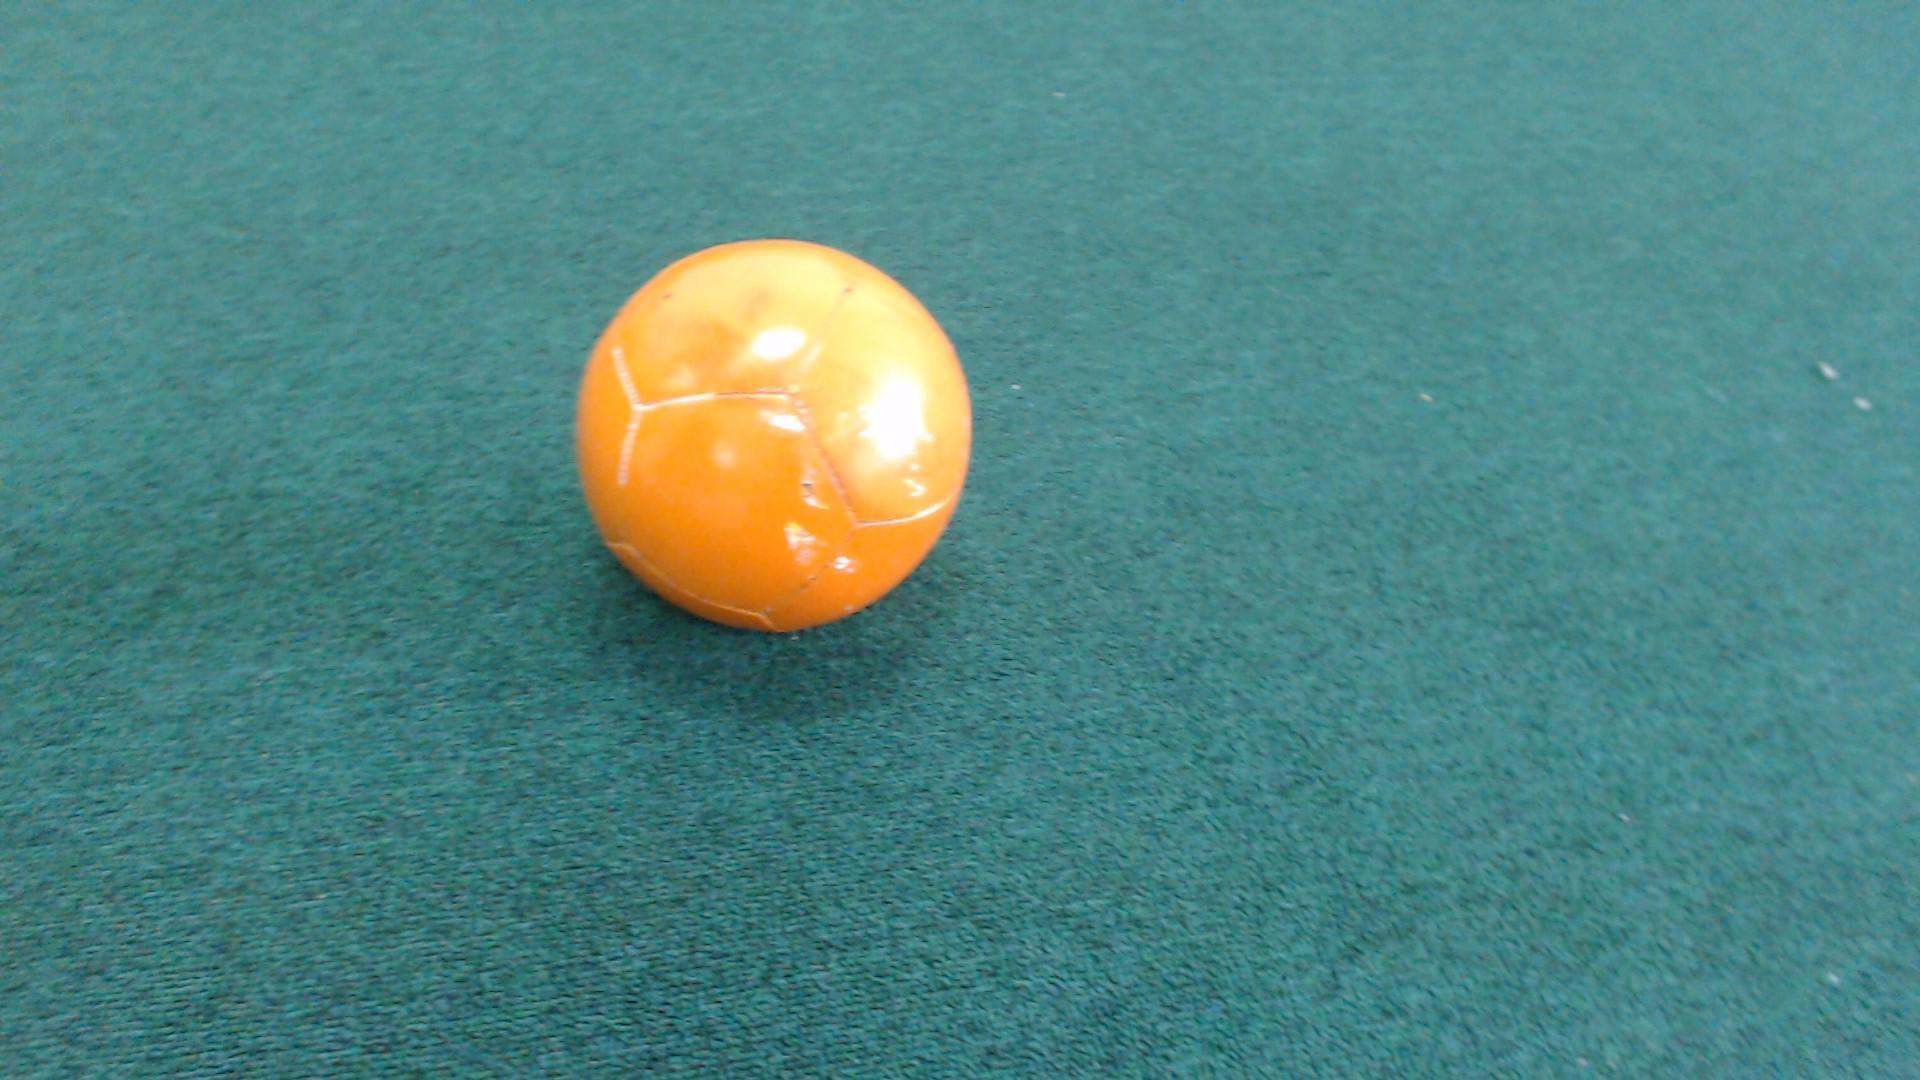bola: (498, 232, 994, 657)
